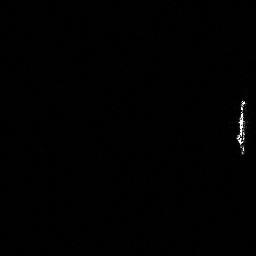ship: (233, 97, 249, 156)
